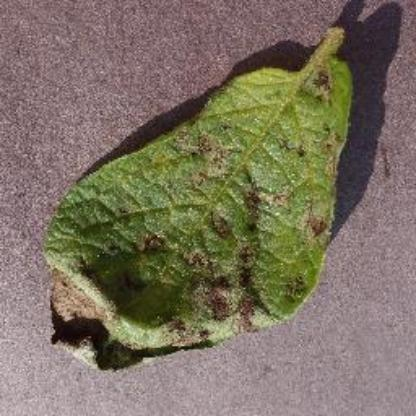Late-Blight: (43, 26, 353, 372)
